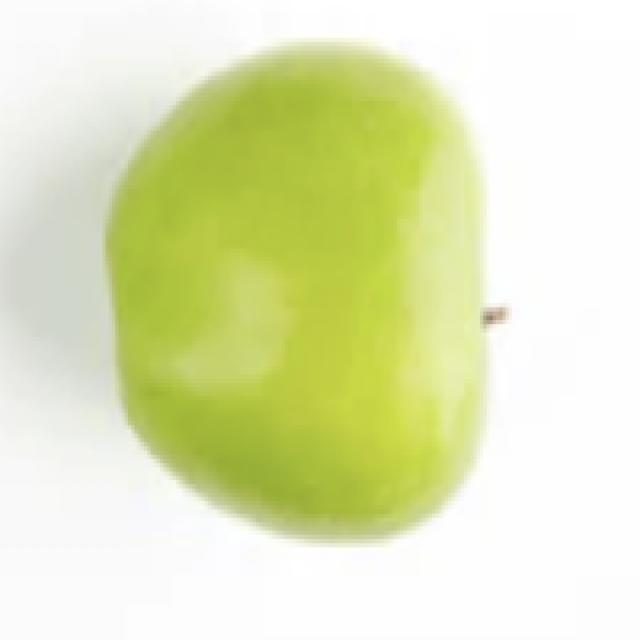Fresh Apple: (125, 54, 513, 524)
